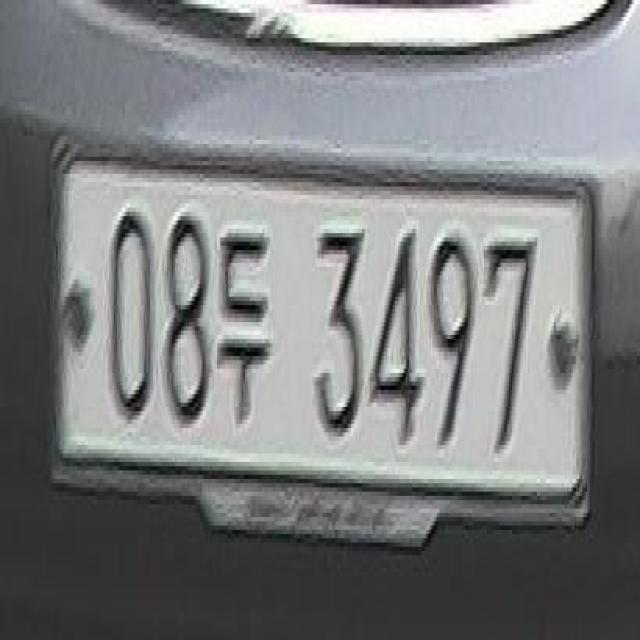illegal_plate: (57, 138, 598, 548)
